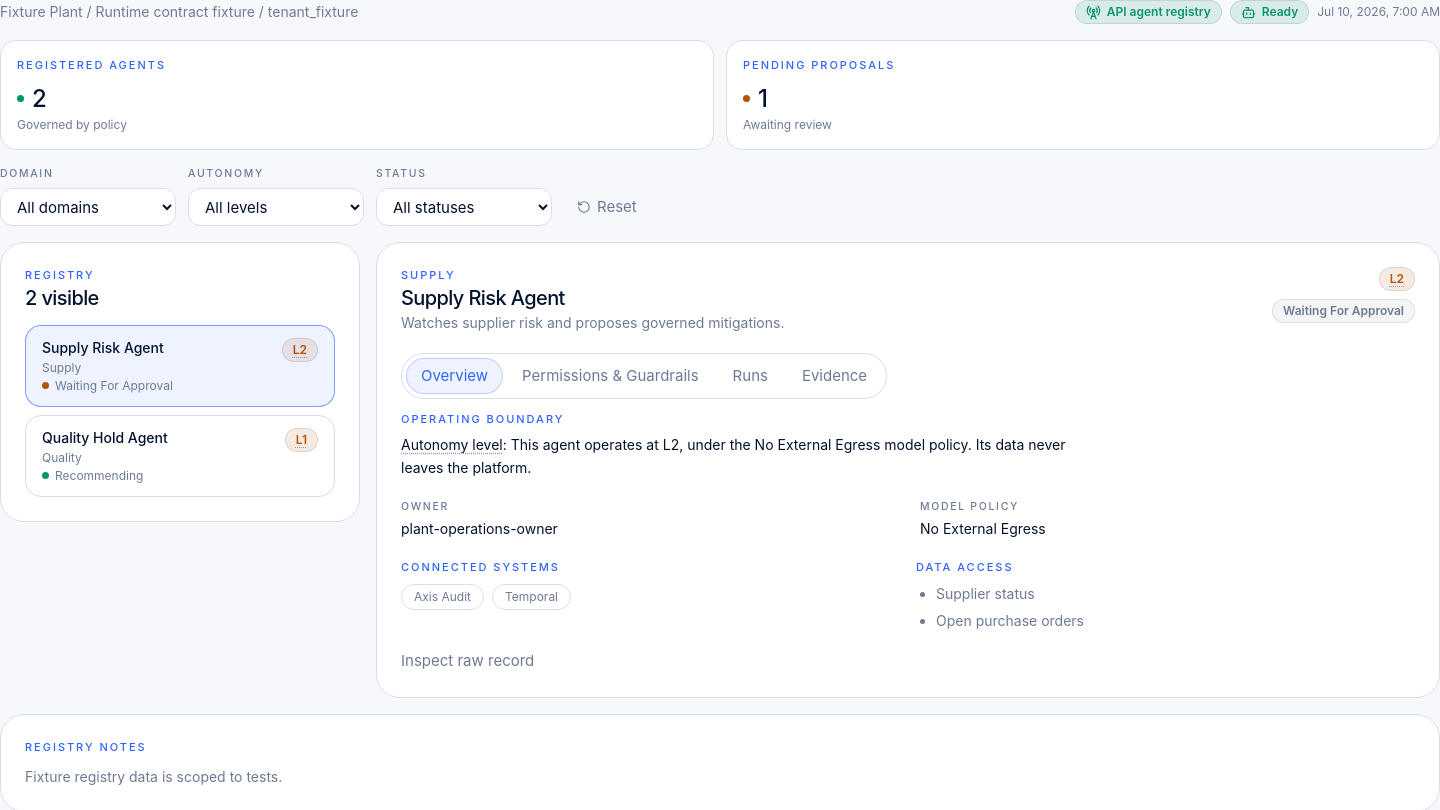
Test: AgentRegistry list and filters › filters the list by domain
Select "Quality" in the dropdown labelled "Domain". click: coordinates (88, 207)
box: 0,188 -> 176,226
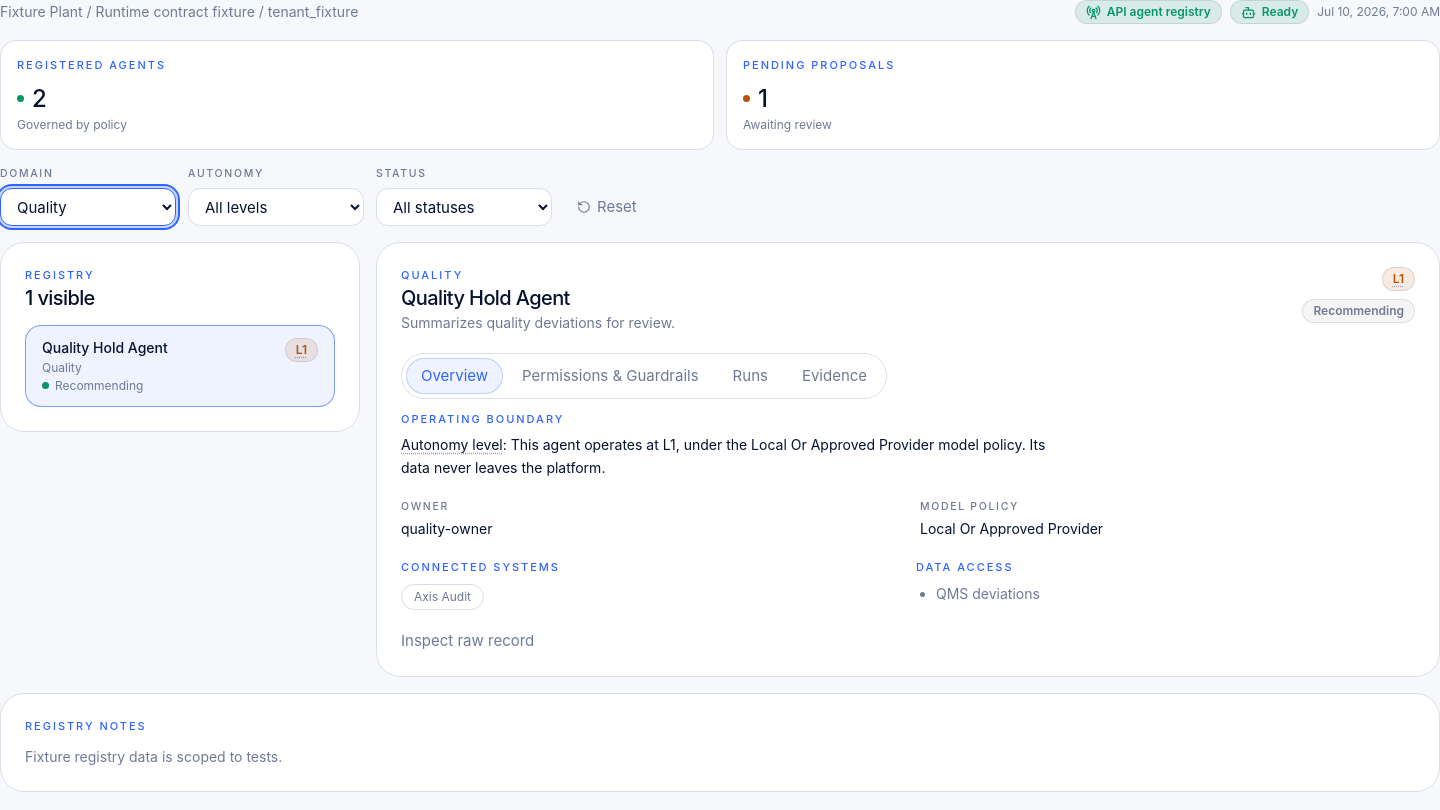
Expected: the button "Quality Hold Agent Quality Recommending L1" is shown, 25,325 -> 335,407
Result: the button "Supply Risk Agent" is gone
